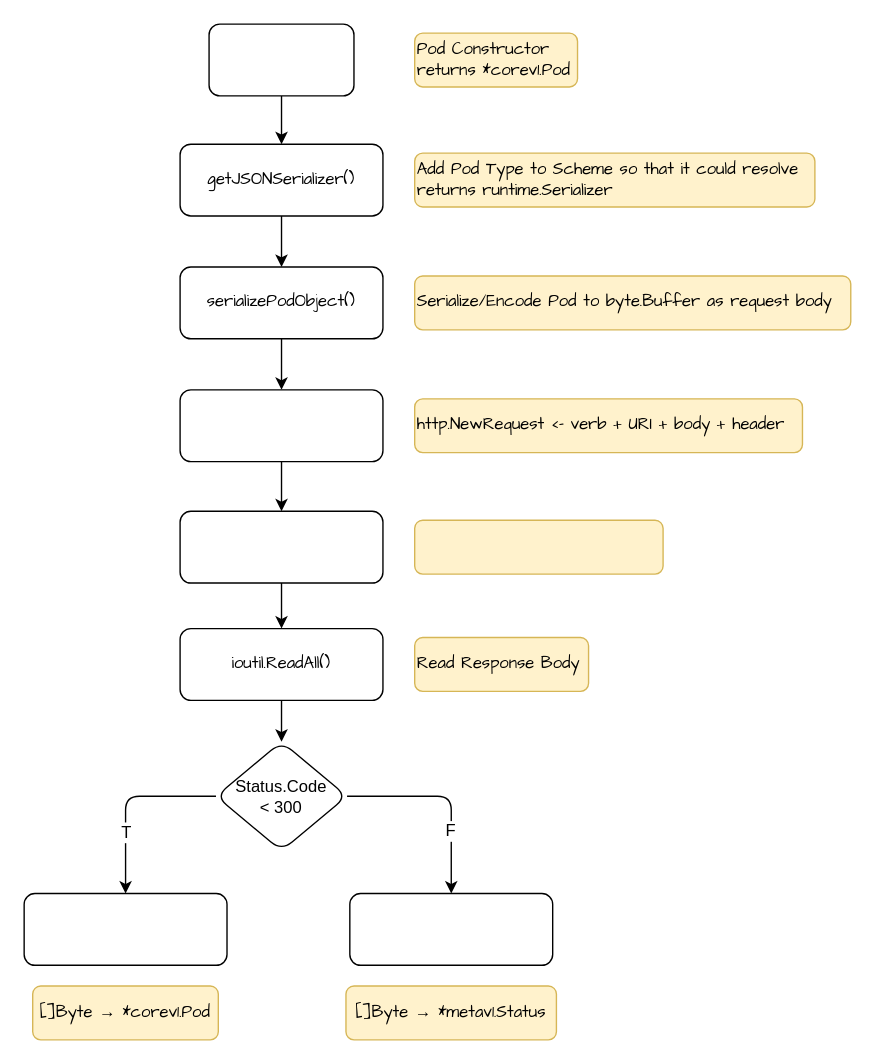
Image size: 875x1064. Some labels were removed from this diagram. The shapes that lost their labels are listed below. From the top down, each one's box as (x1, y1, x2, y2) in pixels, then its label:
(208, 23, 354, 96): NewPod()
(179, 388, 383, 462): buildPostRequest()
(179, 510, 383, 583): &http.Client{}.Do()
(413, 519, 663, 574): Send Request & get Response
(23, 892, 227, 965): deserializePodBody()
(348, 892, 553, 965): deserializeStatusBody()
